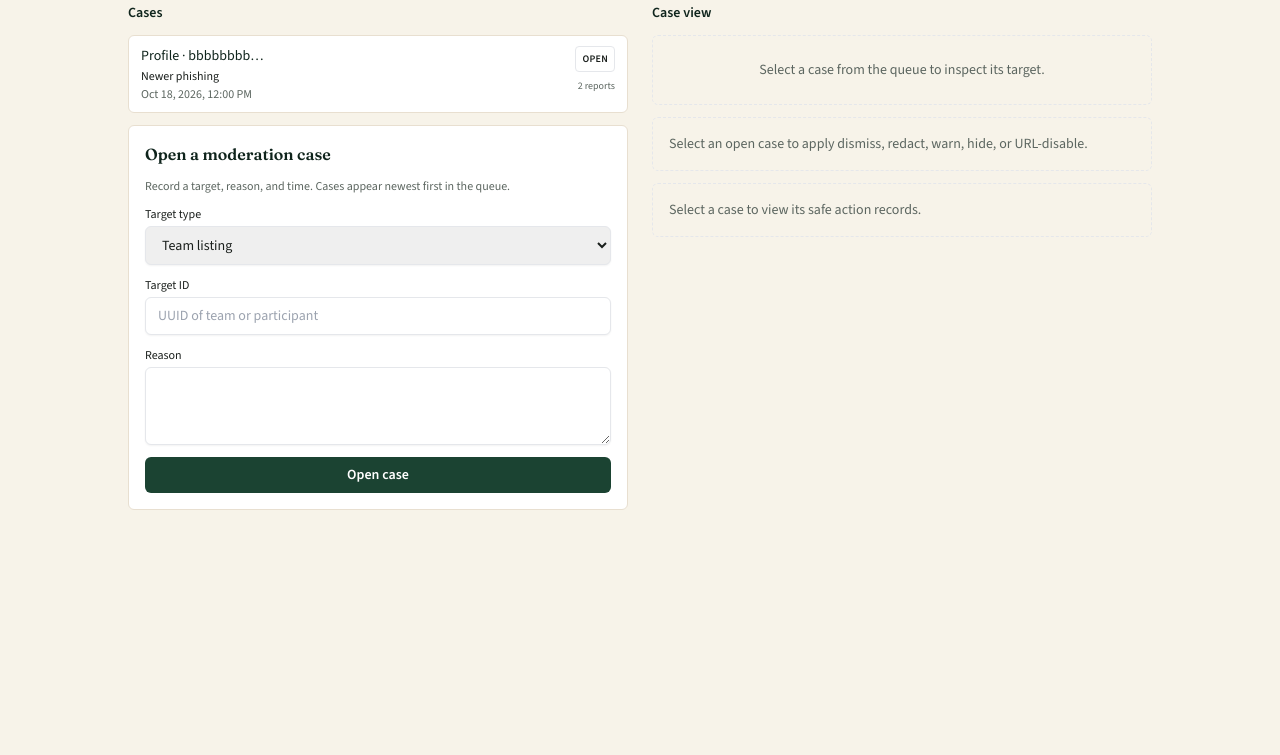
Test: ModerationSafetyPage (US-026 / #241) › applies hide decision from the action panel and shows success
The width and height of the screenshot is (1280, 755).
Click the button that starts with "Profile · bbbbbbbb…".
click(202, 56)  # box 128,35 -> 628,113
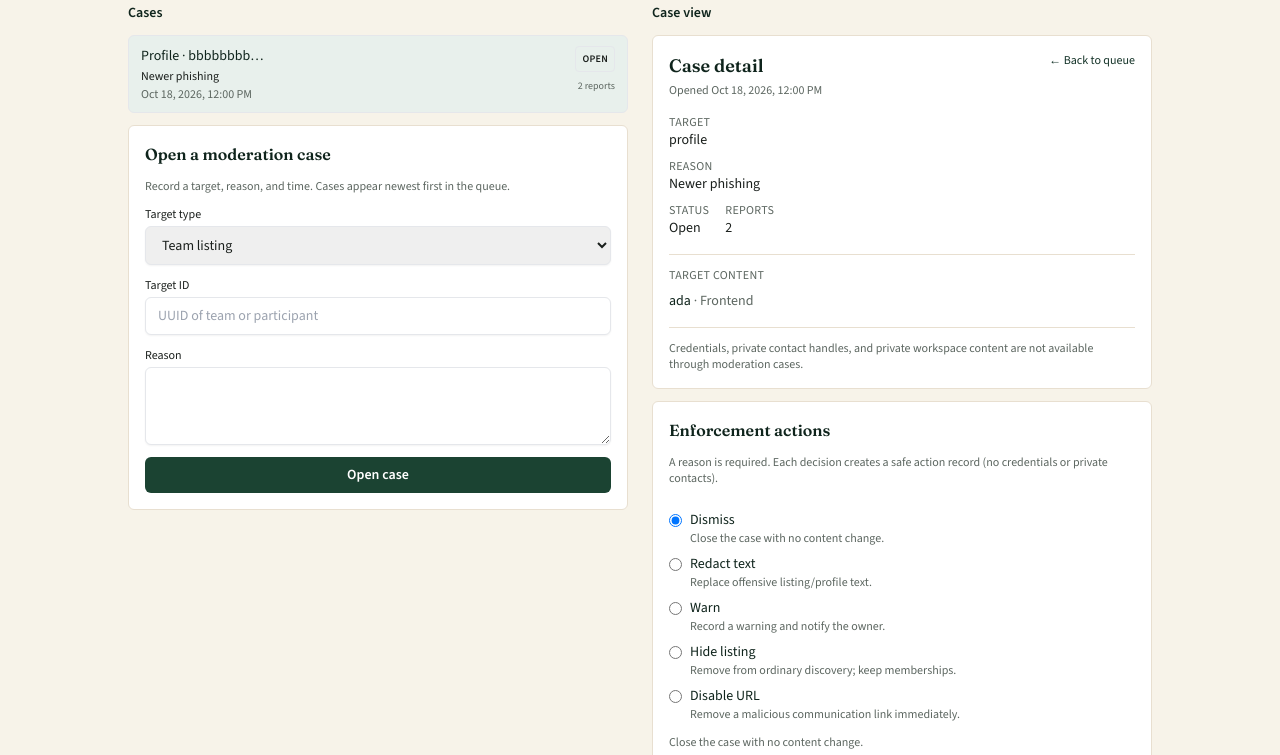
Click the radio button with test id "moderation-action-hide".
click(676, 652)  # box 669,646 -> 682,659
(page scrolled)
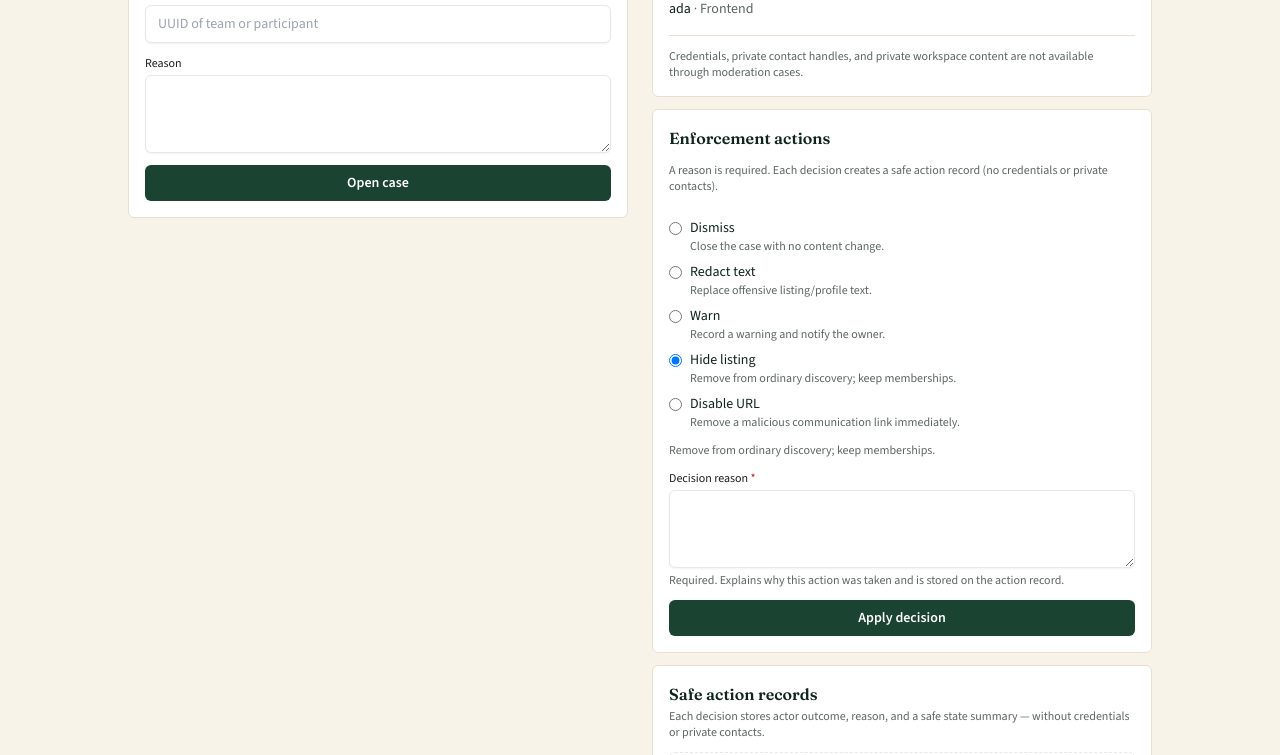
Type "Phishing listing" into the text box with test id "moderation-decision-reason".
click(902, 529); type("Phishing listing")  # box 669,490 -> 1135,568
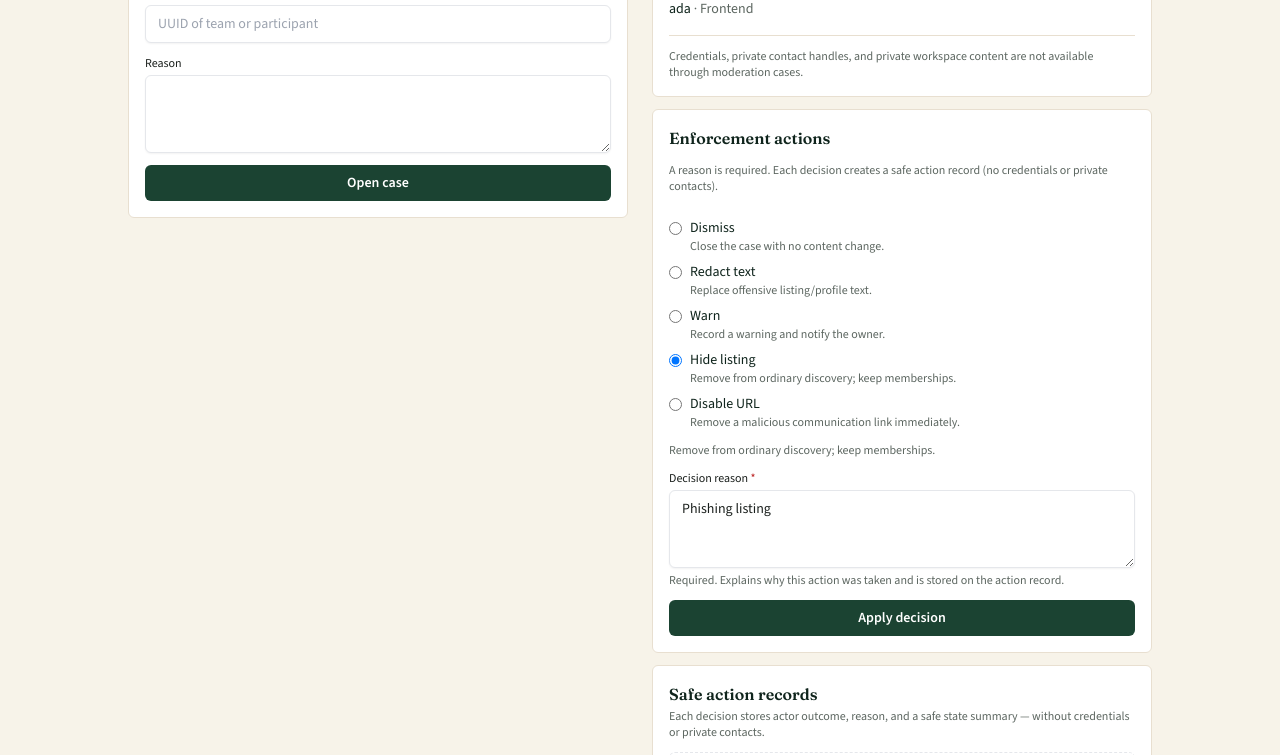
Click the button with test id "moderation-action-submit".
click(902, 618)  # box 669,600 -> 1135,636
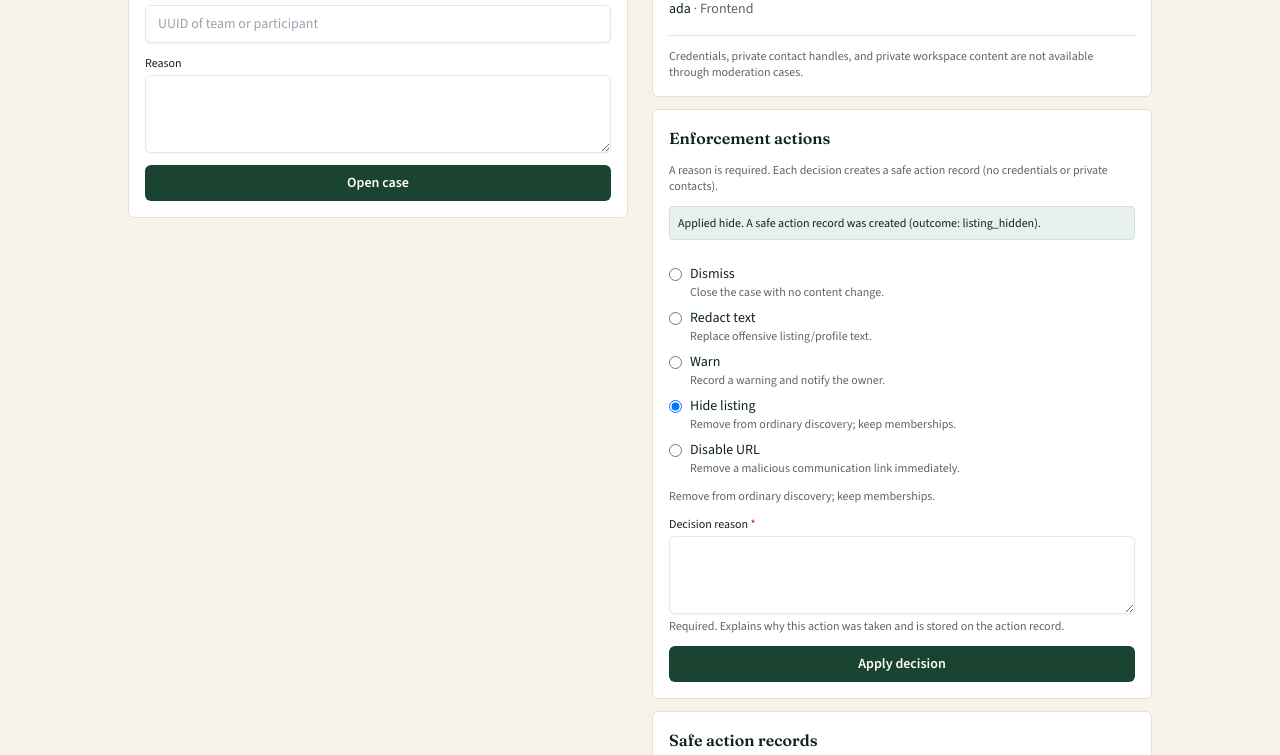
Now the message with test id "moderation-action-success" shows "safe action record", box 678,215 -> 1041,231
